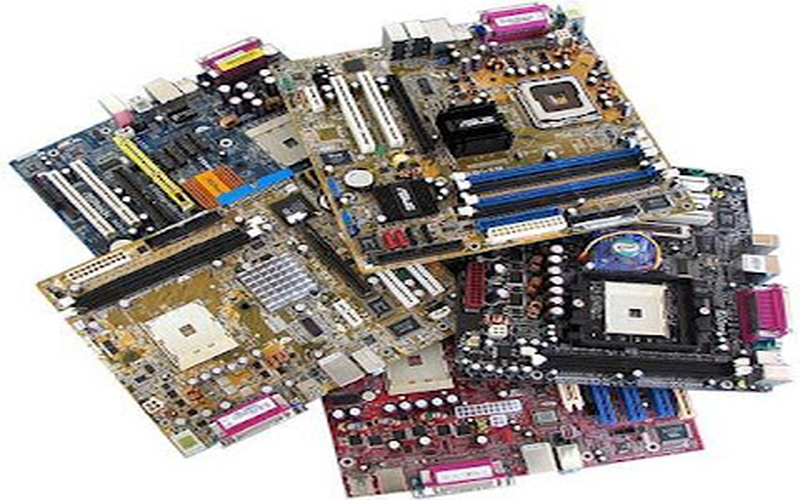Cirtuit-Board: (391, 121, 800, 475), (38, 157, 459, 433), (260, 11, 698, 251)
